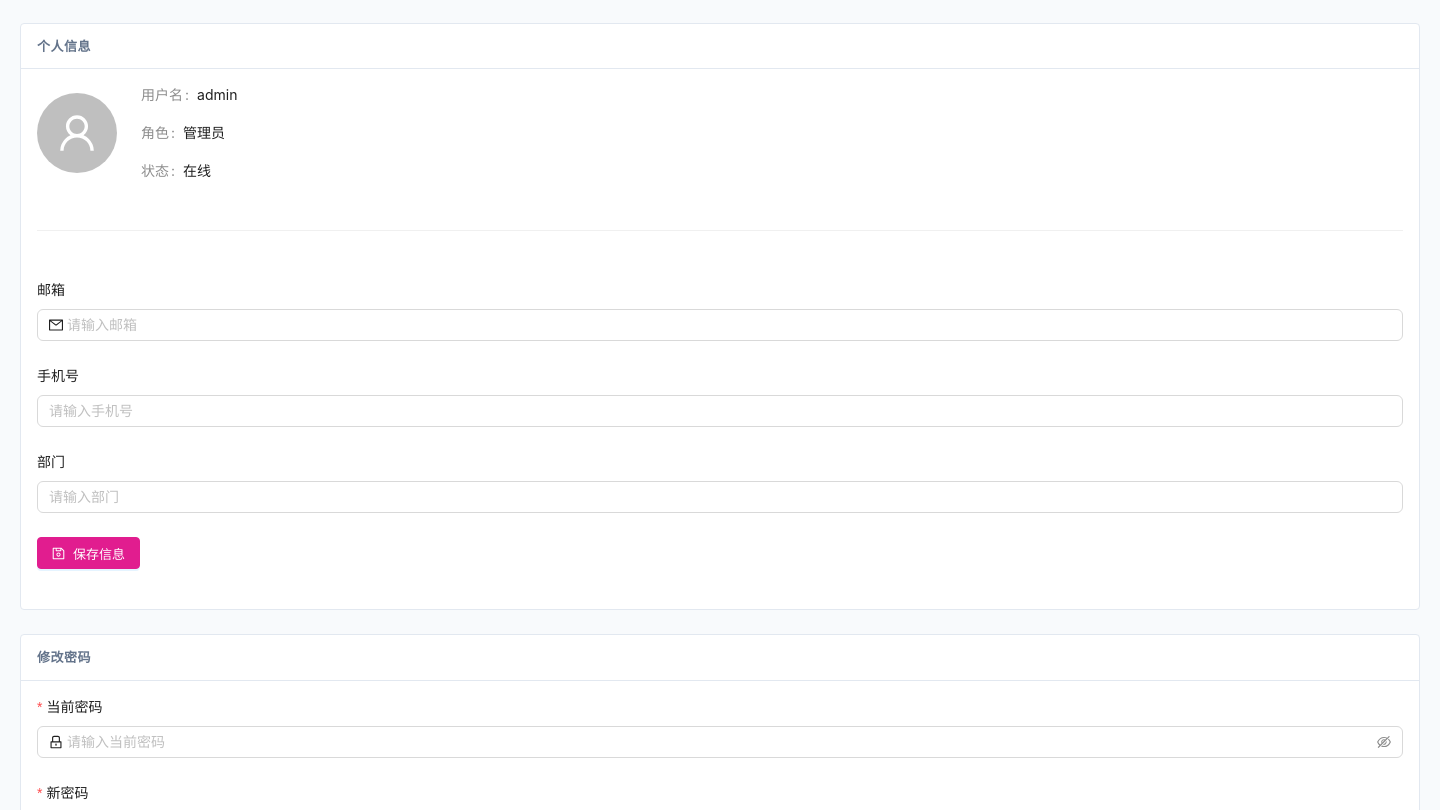
Scenario: Profile › 改密确认不一致校验
Type "old123" into the password field with placeholder "请输入当前密码" at (720, 742), box [67,731,1373,753]
(page scrolled)
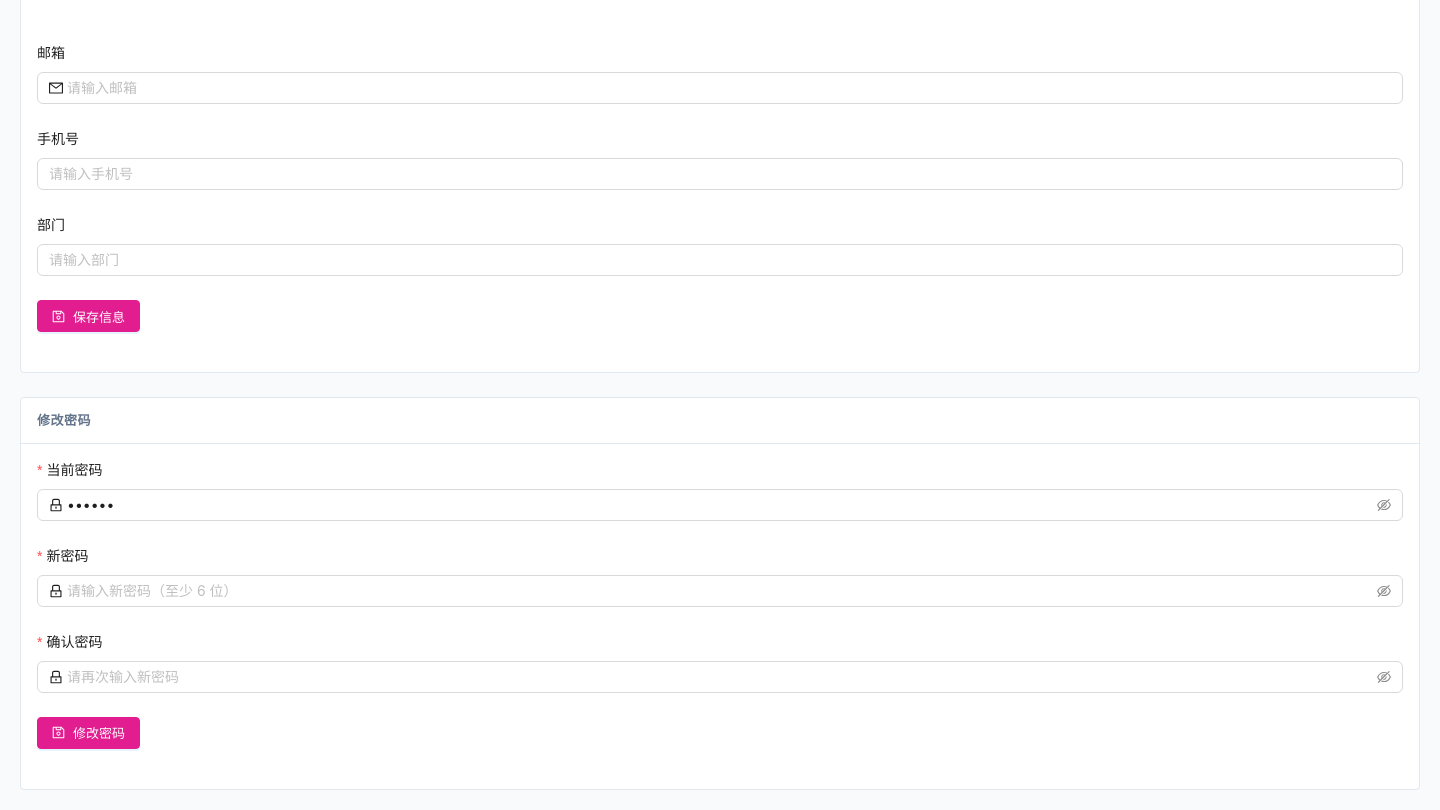
Type "newpass123" into the password field with placeholder "请输入新密码（至少 6 位）" at (720, 591), box [67,580,1373,602]
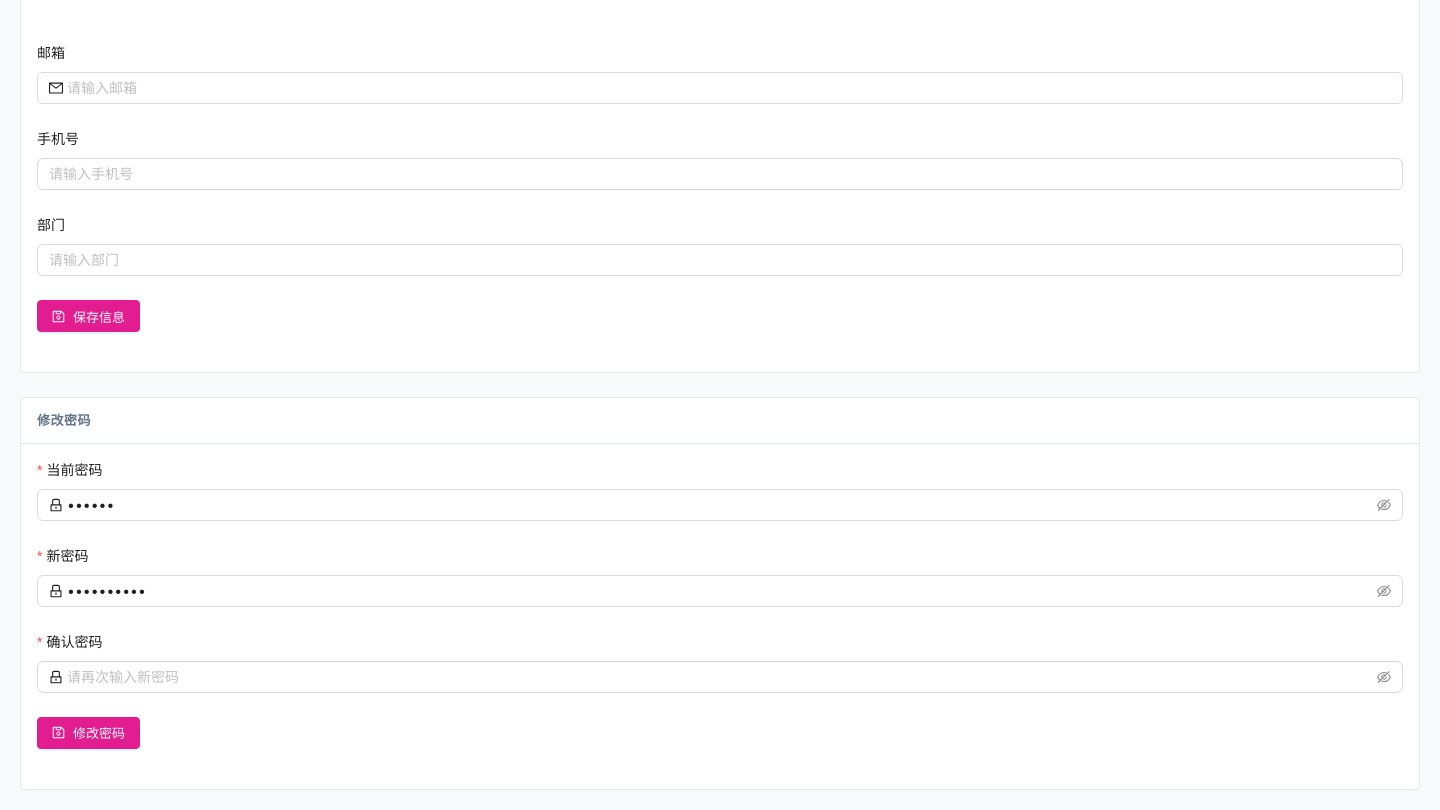
Type "mismatch9" into the password field with placeholder "请再次输入新密码" at (720, 677), box [67,666,1373,688]
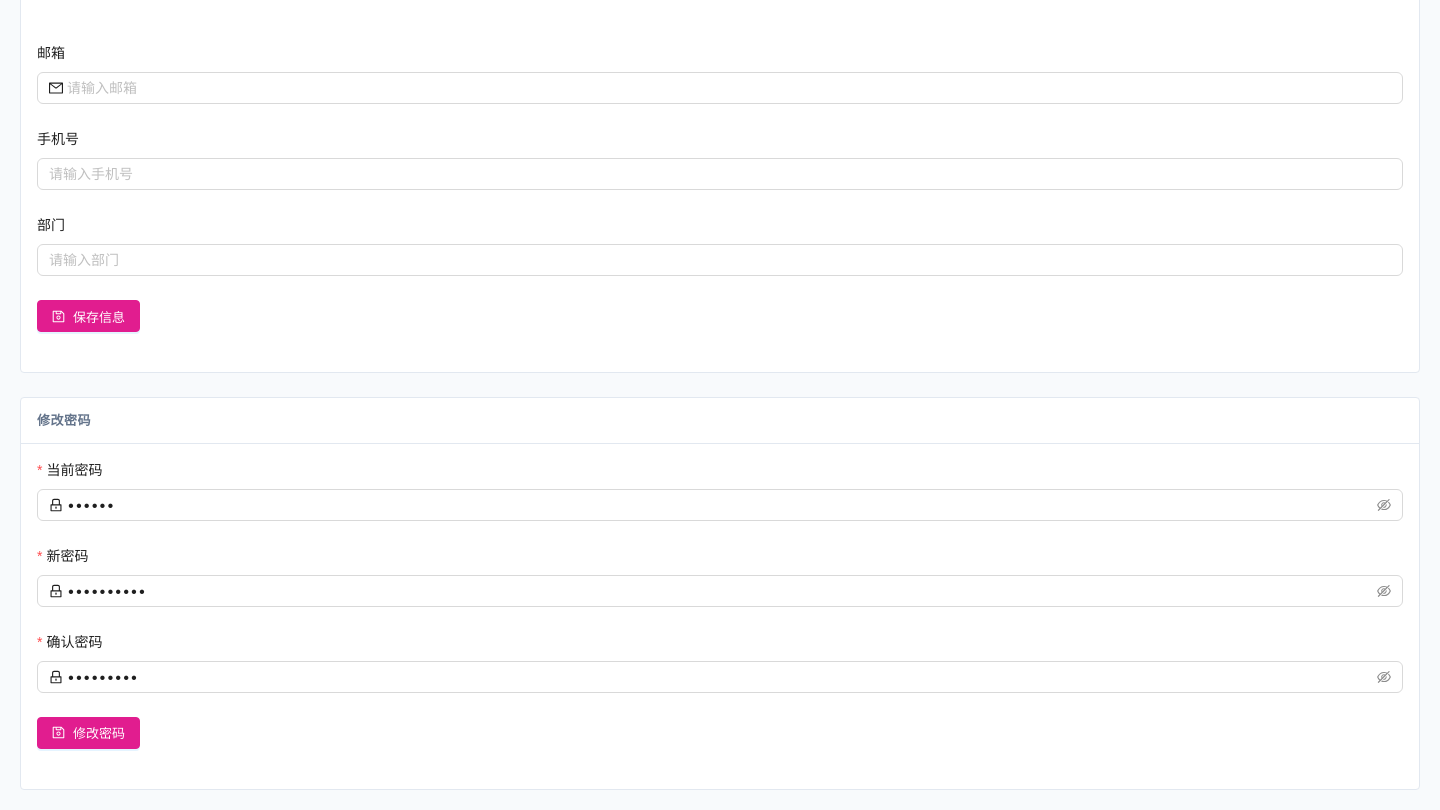
Click the button "修改密码" at (88, 733), box [37,717,140,749]
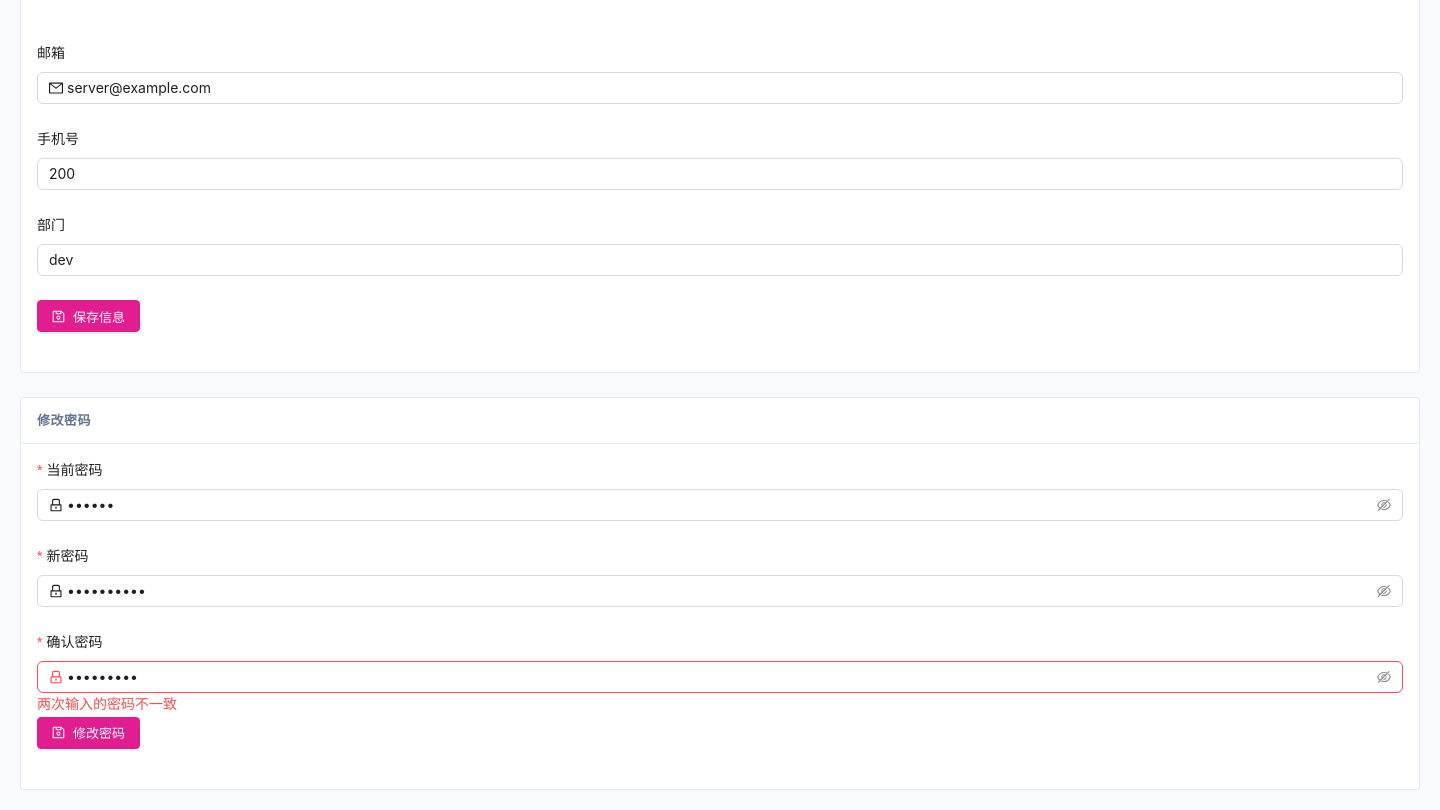
expect the text "两次输入的密码不一致" is shown: met, box [37,695,177,712]
